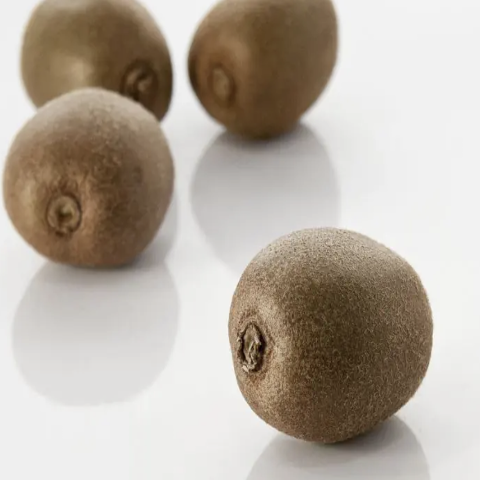kiwi: (209, 211, 452, 456), (0, 86, 199, 285)
